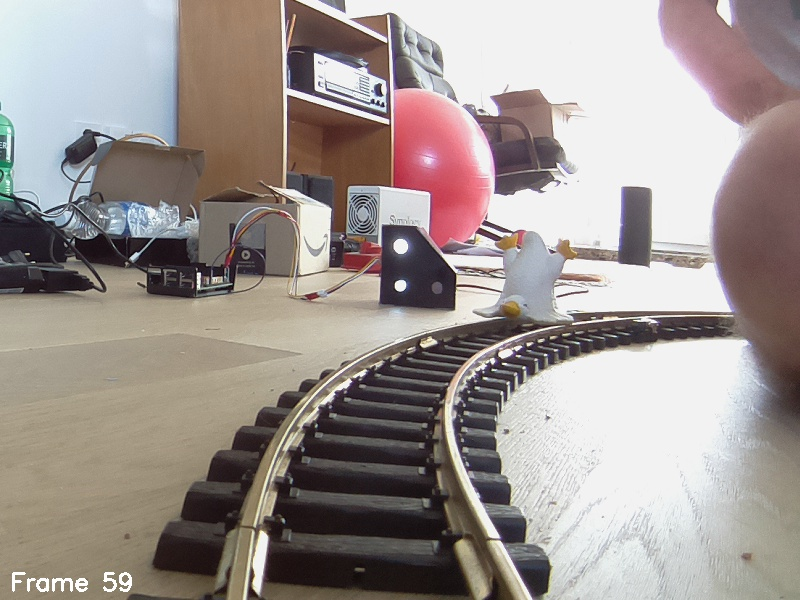Ente: (471, 231, 582, 334)
Fahrt: (381, 224, 458, 310)
